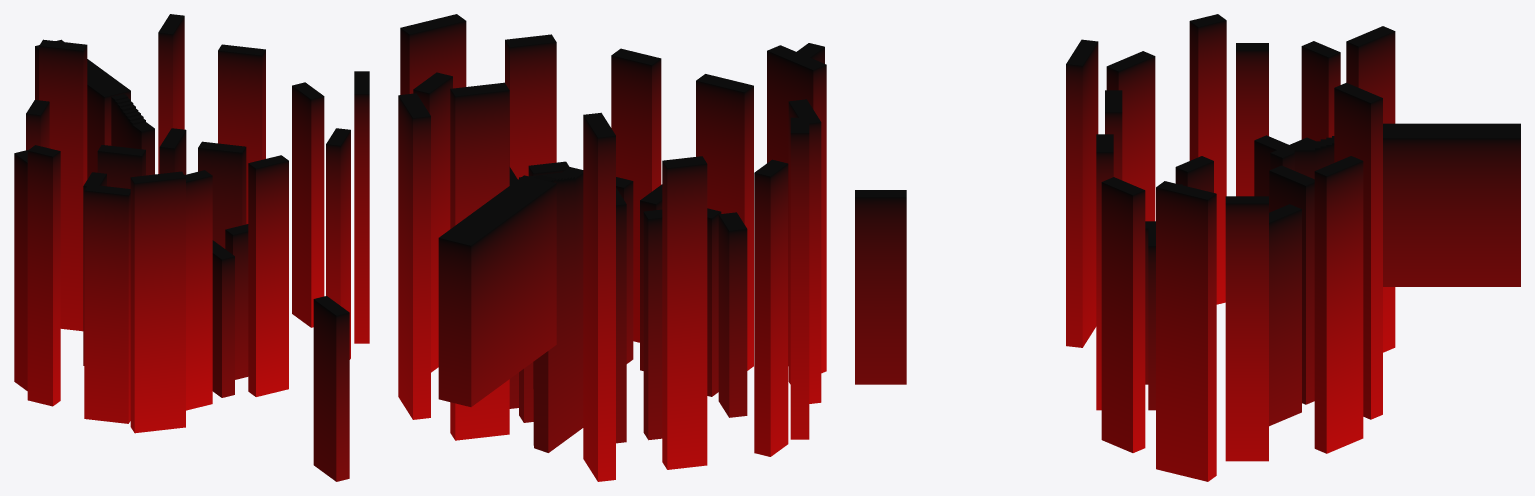
The model's file is nivel_p2.fbx.
The picture shows the model from 3 angles, left to right: view 1: azimuth 30°, elevation 25°; view 2: azimuth 150°, elevation 25°; view 3: azimuth 270°, elevation 25°; orthographic projection. The views are drawn at different scales.
Parts seen in each view (by area): view 1: polySurface30, polySurface24, polySurface22, polySurface27, polySurface29, polySurface19, polySurface23, polySurface20, polySurface17, polySurface21, polySurface31, polySurface9 (+12 smaller); view 2: polySurface34, polySurface26, polySurface27, polySurface20, polySurface25, polySurface18, polySurface28, polySurface23, polySurface22, polySurface21, polySurface29, polySurface30 (+11 smaller); view 3: polySurface34, polySurface31, polySurface20, polySurface21, polySurface19, polySurface30, polySurface28, polySurface9, polySurface29, polySurface16, polySurface17, polySurface24 (+12 smaller).
Boxes of the visible parts, left/top/right/bottom form: polySurface30: left=130, top=171, right=185, bottom=433; polySurface24: left=84, top=184, right=130, bottom=423; polySurface22: left=248, top=155, right=288, bottom=396; polySurface27: left=39, top=39, right=87, bottom=331; polySurface29: left=27, top=145, right=60, bottom=406; polySurface19: left=292, top=82, right=324, bottom=327; polySurface23: left=184, top=170, right=212, bottom=410; polySurface20: left=218, top=44, right=265, bottom=224; polySurface17: left=321, top=301, right=349, bottom=481; polySurface21: left=326, top=128, right=350, bottom=359; polySurface31: left=354, top=71, right=369, bottom=343; polySurface9: left=198, top=141, right=246, bottom=248; polySurface34: left=438, top=189, right=537, bottom=406; polySurface26: left=662, top=156, right=707, bottom=469; polySurface27: left=583, top=112, right=615, bottom=481; polySurface20: left=398, top=93, right=430, bottom=419; polySurface25: left=754, top=159, right=788, bottom=456; polySurface18: left=533, top=167, right=583, bottom=452; polySurface28: left=450, top=82, right=509, bottom=440; polySurface23: left=696, top=74, right=753, bottom=370; polySurface22: left=611, top=48, right=661, bottom=342; polySurface21: left=505, top=34, right=556, bottom=179; polySurface29: left=790, top=117, right=809, bottom=439; polySurface30: left=767, top=45, right=826, bottom=373; polySurface34: left=1398, top=123, right=1520, bottom=286; polySurface31: left=1156, top=181, right=1216, bottom=481; polySurface20: left=1314, top=156, right=1363, bottom=453; polySurface21: left=1101, top=177, right=1145, bottom=452; polySurface19: left=1225, top=196, right=1268, bottom=461; polySurface30: left=1066, top=39, right=1098, bottom=347; polySurface28: left=1334, top=82, right=1382, bottom=419; polySurface9: left=1269, top=204, right=1301, bottom=426; polySurface29: left=1189, top=14, right=1226, bottom=304; polySurface16: left=874, top=190, right=906, bottom=384; polySurface17: left=855, top=190, right=889, bottom=384; polySurface24: left=1106, top=51, right=1155, bottom=221.
Bounding box in the file's own units: 51.03 × 40.5 × 77.23.
